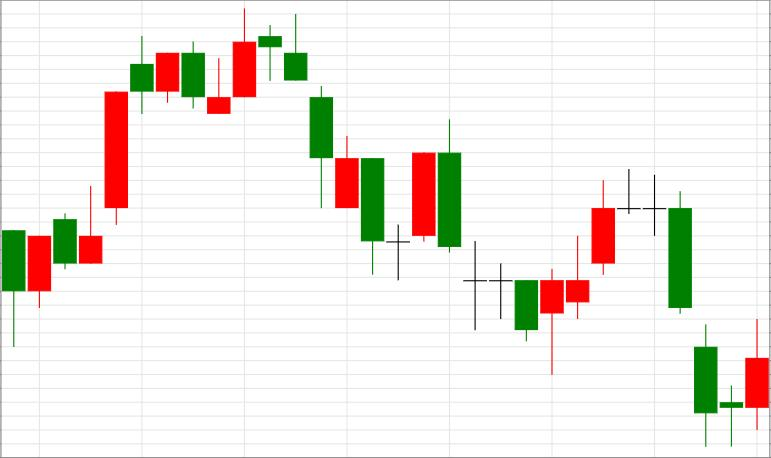morning_star_rise: (259, 13, 435, 281)
